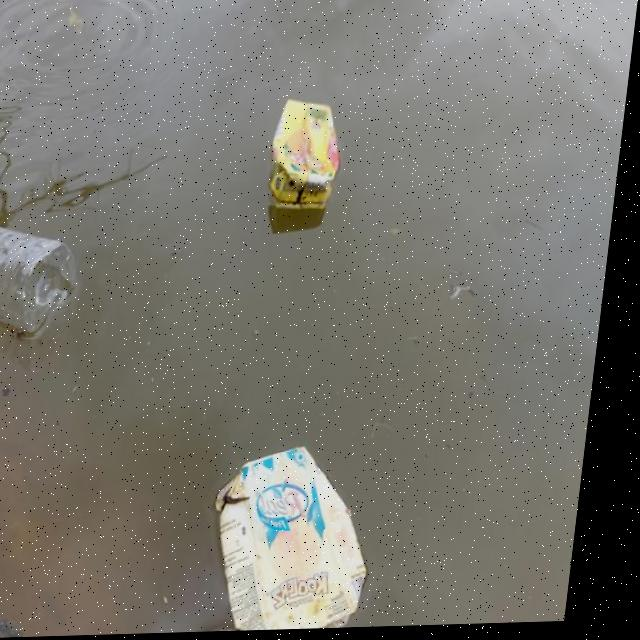paper: (216, 440, 392, 633), (221, 73, 372, 257)
waterbottle: (0, 203, 103, 356)
